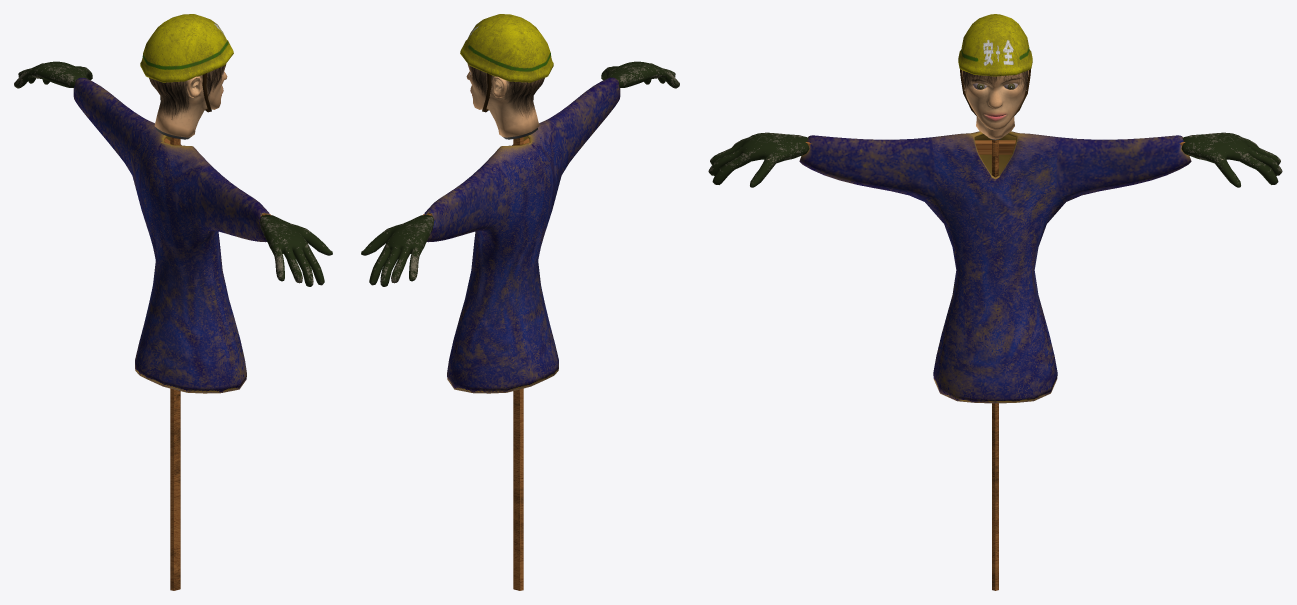
Rendered from kakashi.fbx.
3 renders of one model, left to right at view 1: azimuth 30°, elevation 25°; view 2: azimuth 150°, elevation 25°; view 3: azimuth 270°, elevation 25°, orthographic.
Visible parts, largest first — view 1: headsub.002; view 2: headsub.002; view 3: headsub.002.
Part boxes in pixels (x1,y1,x2,y2): headsub.002: (14,14,332,590); headsub.002: (361,14,679,590); headsub.002: (708,14,1282,590).
Bounding box in the file's own units: 252 × 1420 × 1284.
1 material, 1 textured.
